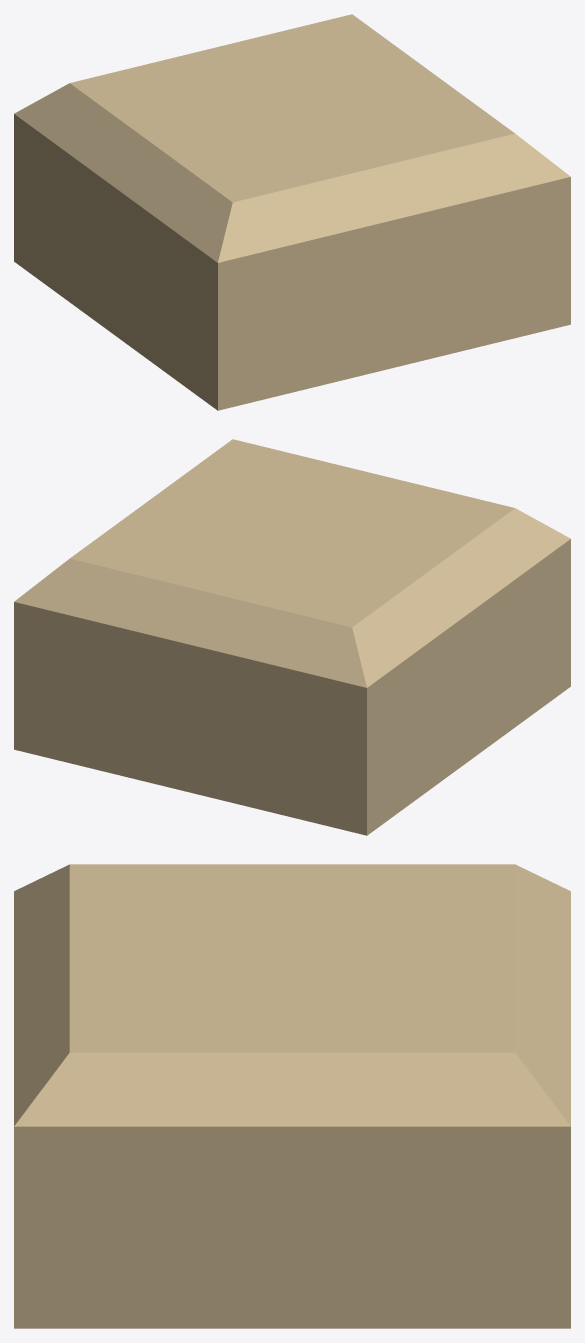
Rendered from SquareButton.fbx.
3 renders of one model, top to bottom at view 1: azimuth 30°, elevation 25°; view 2: azimuth 150°, elevation 25°; view 3: azimuth 270°, elevation 25°, orthographic. The views are drawn at different scales.
Parts seen in each view (by area): view 1: SquareButton_0.000; view 2: SquareButton_0.000; view 3: SquareButton_0.000.
Part boxes in pixels (<box>): SquareButton_0.000: <box>14,14,570,410</box>; SquareButton_0.000: <box>14,439,570,835</box>; SquareButton_0.000: <box>14,864,570,1328</box>.
Bounding box in the file's own units: 200 × 100 × 200.
